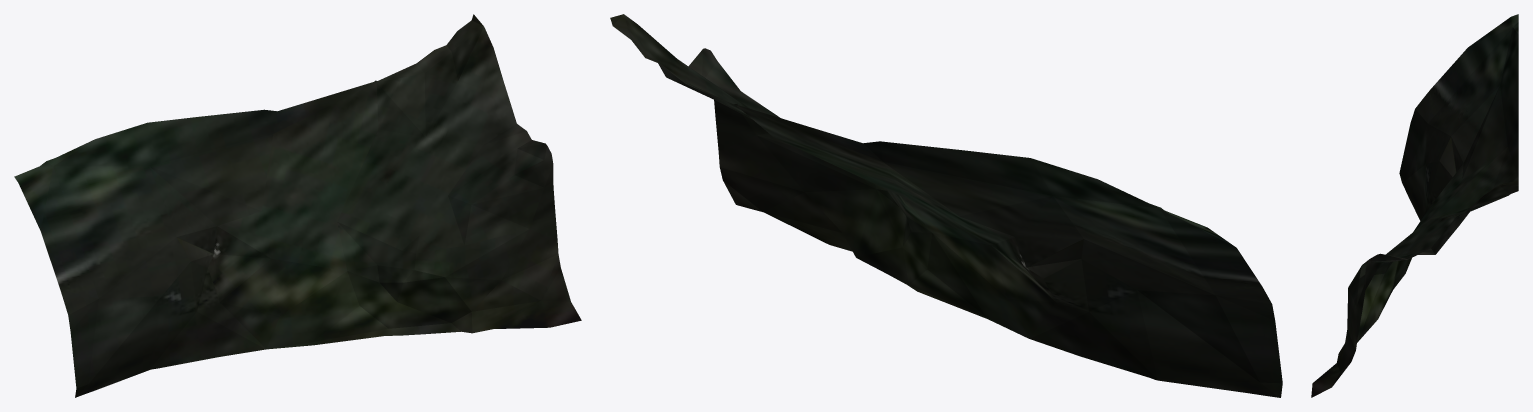
3 views of the same model, side by side, from view 1: azimuth 30°, elevation 25°; view 2: azimuth 150°, elevation 25°; view 3: azimuth 270°, elevation 25° (orthographic). The views are drawn at different scales.
Size of the model in its own units: 0.8374 by 0.3959 by 0.3419.
2 materials, 2 textured.
